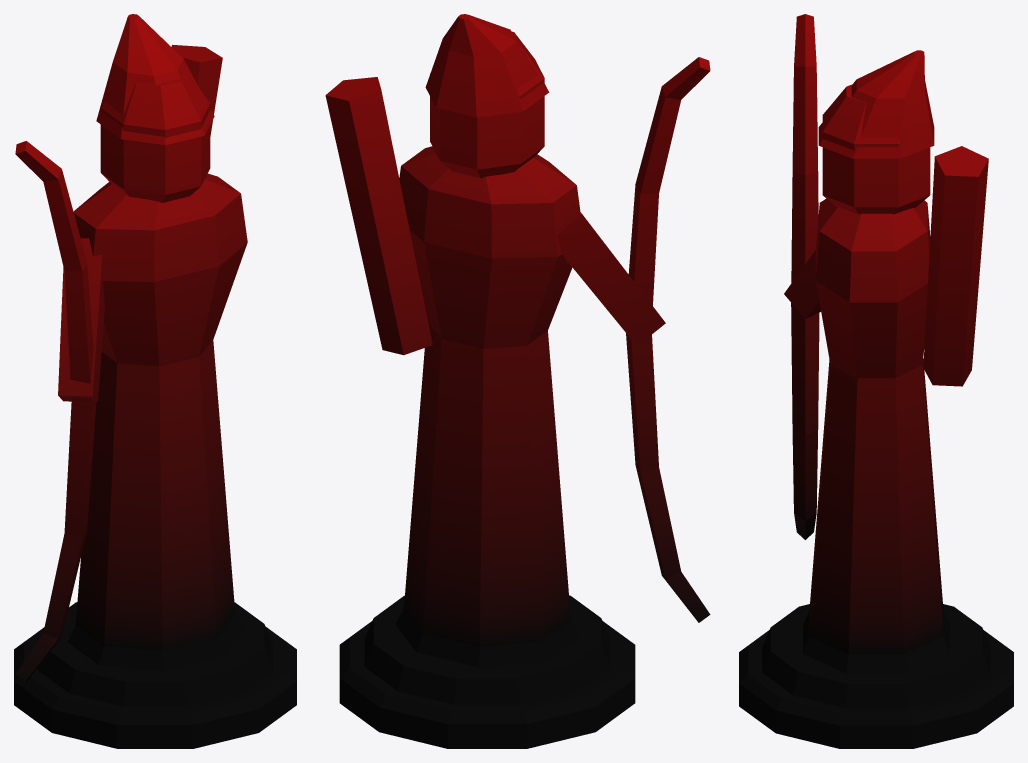
File: ns-block-archer.glb
3 views of the same model, side by side, from view 1: azimuth 30°, elevation 25°; view 2: azimuth 150°, elevation 25°; view 3: azimuth 270°, elevation 25° (orthographic). The views are drawn at different scales.
Parts seen in each view (by area): view 1: Ringed form.002, Ringed form, Tapered form, Ringed form.001, Ringed form.003, Ringed form.004, Tapered form.001, Tapered form.002; view 2: Ringed form.002, Ringed form, Tapered form.002, Tapered form, Ringed form.001, Ringed form.004, Ringed form.003, Tapered form.001; view 3: Ringed form.002, Ringed form, Tapered form.002, Tapered form, Ringed form.001, Ringed form.003, Ringed form.004, Tapered form.001.
Part boxes in pixels (left/top/right/bottom): Ringed form.002: left=67, top=173, right=247, bottom=671; Ringed form: left=14, top=626, right=296, bottom=748; Tapered form: left=15, top=141, right=96, bottom=681; Ringed form.001: left=38, top=602, right=272, bottom=706; Ringed form.003: left=100, top=70, right=210, bottom=202; Ringed form.004: left=96, top=14, right=214, bottom=145; Tapered form.001: left=58, top=238, right=104, bottom=402; Tapered form.002: left=171, top=44, right=222, bottom=136; Ringed form.002: left=395, top=146, right=580, bottom=667; Ringed form: left=339, top=621, right=635, bottom=748; Tapered form.002: left=325, top=77, right=432, bottom=355; Tapered form: left=626, top=57, right=710, bottom=622; Ringed form.001: left=364, top=595, right=610, bottom=704; Ringed form.004: left=425, top=14, right=549, bottom=117; Ringed form.003: left=430, top=31, right=544, bottom=178; Tapered form.001: left=550, top=203, right=665, bottom=345; Ringed form.002: left=803, top=198, right=949, bottom=673; Ringed form: left=739, top=630, right=1013, bottom=748; Tapered form.002: left=923, top=146, right=988, bottom=386; Tapered form: left=791, top=14, right=819, bottom=539; Ringed form.001: left=762, top=604, right=990, bottom=708; Ringed form.003: left=822, top=84, right=930, bottom=214; Ringed form.004: left=818, top=50, right=934, bottom=158; Tapered form.001: left=784, top=250, right=820, bottom=318.
Bounding box in the file's own units: 0.472 × 0.99 × 0.3864.
